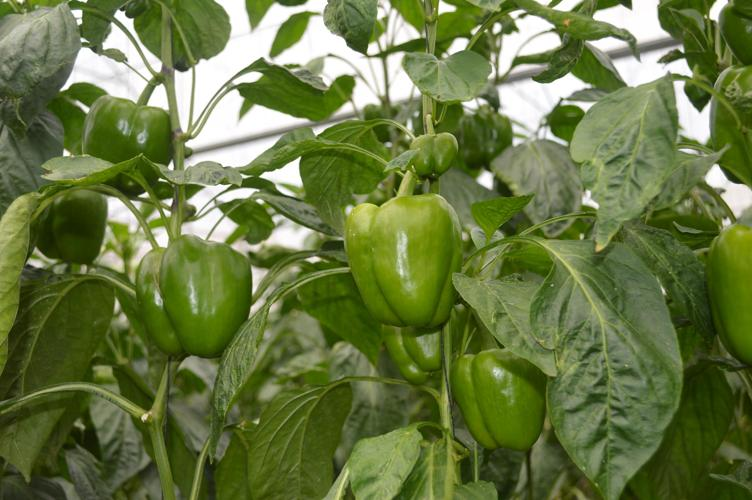BellPepper: (348, 194, 460, 322), (137, 234, 254, 354), (447, 348, 546, 451), (84, 95, 172, 190), (698, 225, 751, 362), (32, 192, 113, 268), (378, 310, 460, 385), (458, 112, 510, 162), (414, 128, 453, 179)
